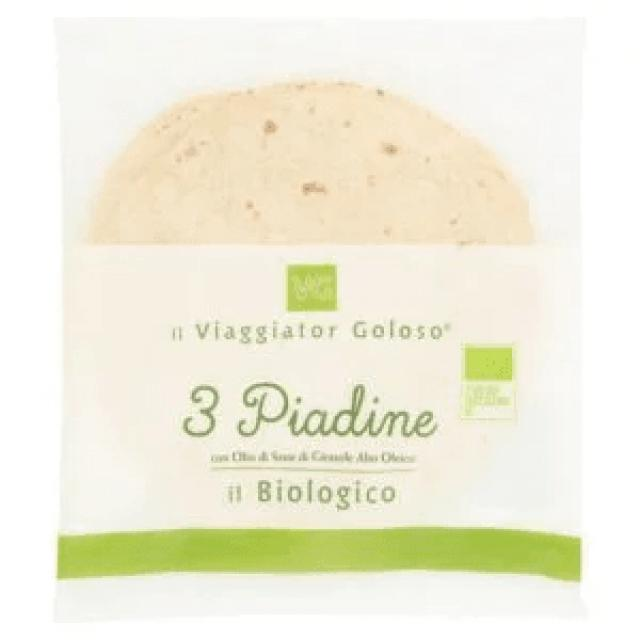Bread loaf: (55, 19, 585, 585)
